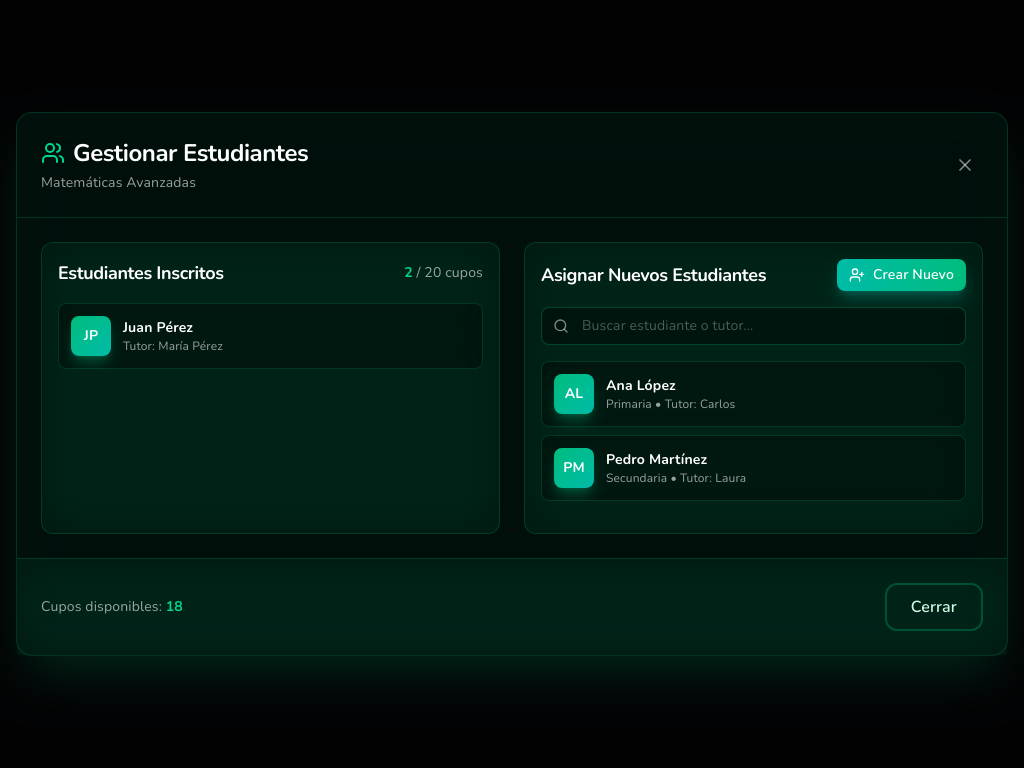
Test: GestionarEstudiantesModal › Crear estudiante › muestra formulario de creación al hacer click en Crear Nuevo
Expected: the text "Gestionar Estudiantes" is shown, [73,137,308,169]
Click the button "Crear Nuevo".
click(901, 275)  # box [837,259,966,291]
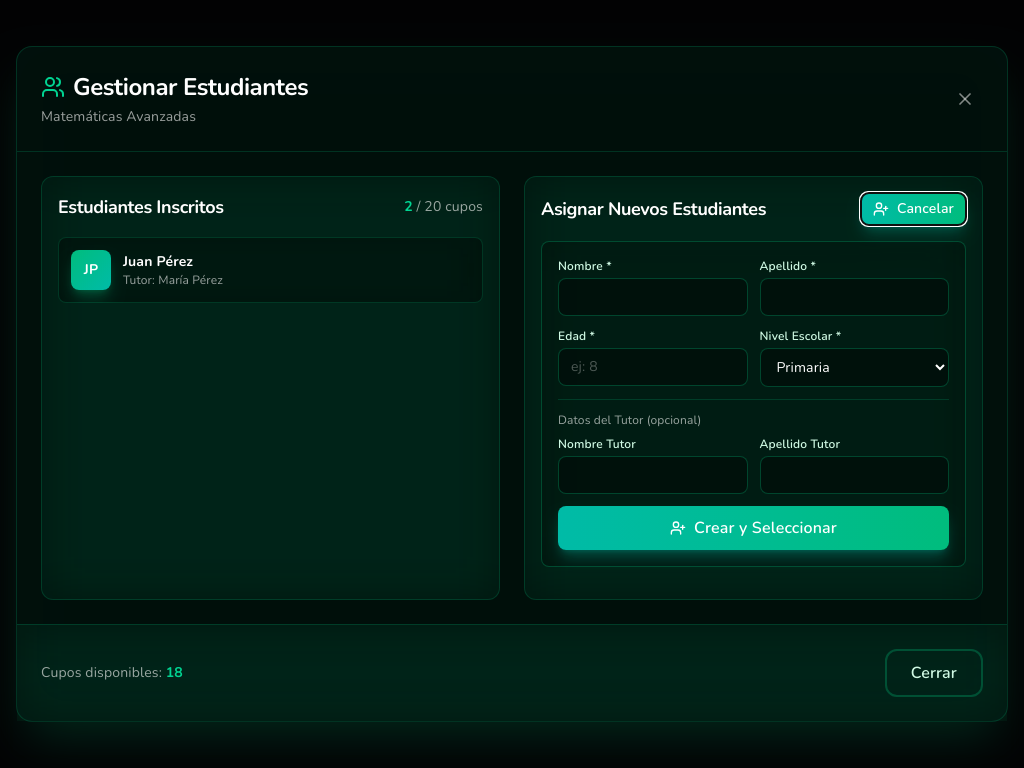
Now the text "Nombre *" is shown, box [558,258,612,274]
Now the text "Apellido *" is shown, box [760,258,816,274]
Now the text "Edad *" is shown, box [558,328,595,344]
